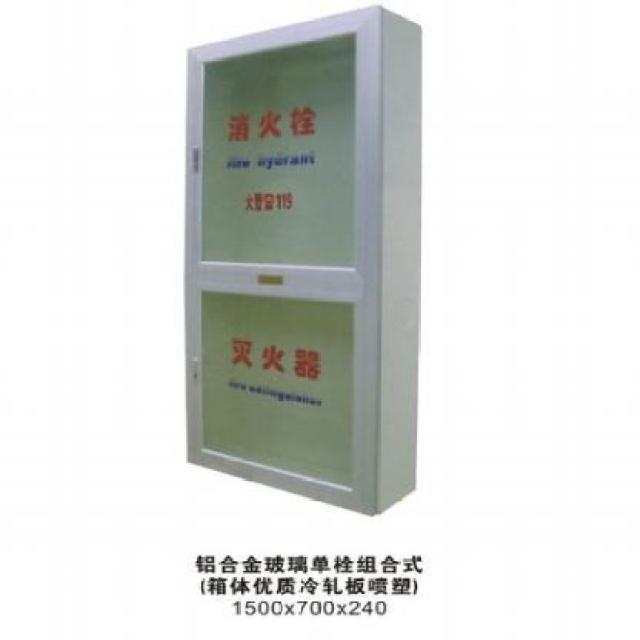firehydrant: (178, 1, 428, 522)
